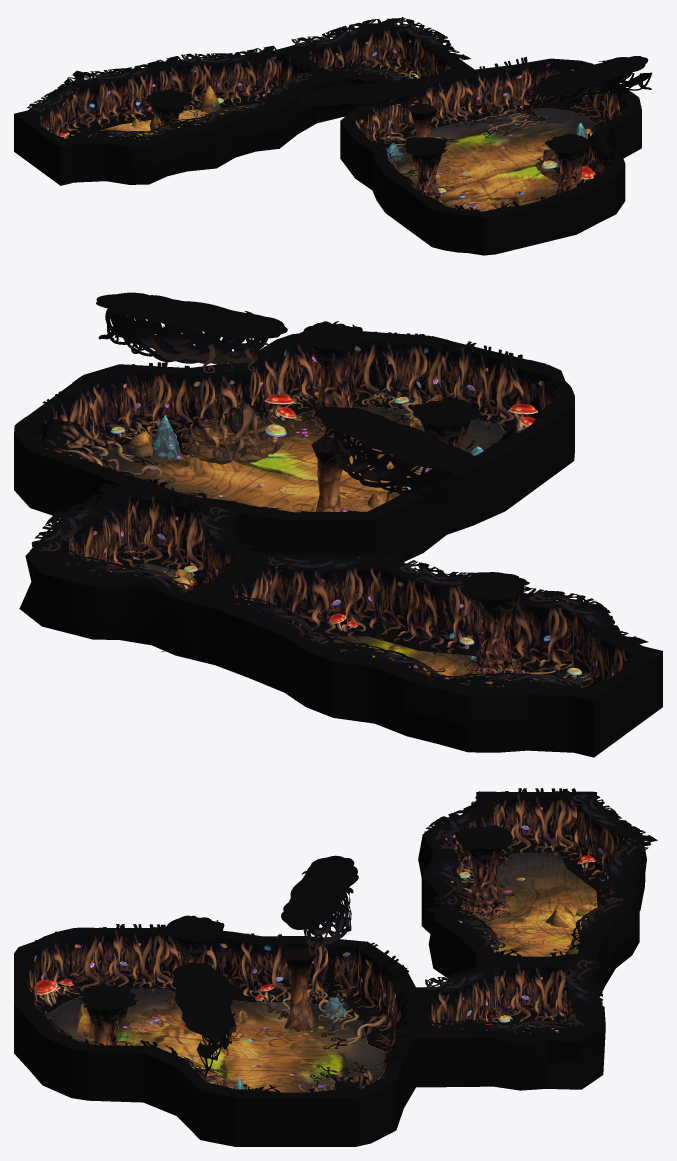
The picture shows the model from 3 angles, top to bottom: view 1: azimuth 30°, elevation 25°; view 2: azimuth 150°, elevation 25°; view 3: azimuth 270°, elevation 25°; orthographic projection. The views are drawn at different scales.
Visible parts, largest first — view 1: Dan1 (×2), Dun_021_Room_003_wall, Dun_021_Room_003_ground, un_021_Door_002 (×7), Dungeon_021_Tsuta_002 (×2), Dungeon_021_Tsuta_001 (×2), Dungeon_021_Object_025, Dungeon_021_Object_021, un_021_Door_002_Object1 (×3), Dungeon_021_Object_010 (×2), Dungeon_021_Object_024, Dan1_shadow (+9 smaller); view 2: Dan1 (×2), Dun_021_Room_003_wall, un_021_Door_002 (×8), Dungeon_021_Object_025, Dungeon_021_Tsuta_002 (×2), Dun_021_Room_003_ground, Dungeon_021_Tsuta_001 (×2), un_021_Door_002_Object1 (×4), Dungeon_021_Object_021, Dungeon_021_Object_011 (×2), Dungeon_021_Object_010 (×2), Dungeon_021_Object_015 (+9 smaller); view 3: Dun_021_Room_003_wall, Dan1 (×2), un_021_Door_002 (×8), Dun_021_Room_003_ground, Dungeon_021_Tsuta_002 (×2), Dungeon_021_Object_025, un_021_Door_002_Object1 (×3), Dan2, Dungeon_021_Object_021, Dungeon_021_Tsuta_001 (×2), Dungeon_021_Object_010 (×2), Dun_011_Room_003_shadow (+6 smaller).
Boxes of the visible parts, x1,y1,x2,y2 form: Dan1 (×2): (14, 25, 474, 185); Dun_021_Room_003_wall: (340, 58, 641, 255); Dun_021_Room_003_ground: (389, 107, 599, 211); un_021_Door_002 (×7): (15, 46, 637, 250); Dungeon_021_Tsuta_002 (×2): (27, 17, 470, 141); Dungeon_021_Tsuta_001 (×2): (36, 24, 460, 141); Dungeon_021_Object_025: (297, 56, 652, 118); Dungeon_021_Object_021: (348, 56, 627, 210); un_021_Door_002_Object1 (×3): (267, 53, 624, 135); Dungeon_021_Object_010 (×2): (145, 89, 592, 163); Dungeon_021_Object_024: (470, 77, 581, 137); Dan1_shadow: (63, 95, 274, 138); Dan1 (×2): (19, 485, 662, 757); Dun_021_Room_003_wall: (14, 331, 574, 563); un_021_Door_002 (×8): (16, 336, 660, 748); Dungeon_021_Object_025: (96, 292, 474, 501); Dungeon_021_Tsuta_002 (×2): (30, 483, 648, 689); Dun_021_Room_003_ground: (95, 406, 507, 512); Dungeon_021_Tsuta_001 (×2): (47, 488, 636, 688); un_021_Door_002_Object1 (×4): (41, 340, 525, 613); Dungeon_021_Object_021: (67, 331, 560, 513); Dungeon_021_Object_011 (×2): (307, 349, 522, 680); Dungeon_021_Object_010 (×2): (299, 321, 530, 614); Dungeon_021_Object_015: (174, 406, 294, 464); Dun_021_Room_003_wall: (14, 928, 415, 1146); Dan1 (×2): (416, 792, 646, 1090); un_021_Door_002 (×8): (14, 791, 594, 1146); Dun_021_Room_003_ground: (44, 988, 386, 1092); Dungeon_021_Tsuta_002 (×2): (424, 791, 657, 1036); Dungeon_021_Object_025: (171, 855, 358, 1077); un_021_Door_002_Object1 (×3): (80, 788, 577, 1025); Dan2: (470, 852, 597, 956); Dungeon_021_Object_021: (31, 927, 409, 1089); Dungeon_021_Tsuta_001 (×2): (433, 795, 636, 1033); Dungeon_021_Object_010 (×2): (78, 824, 512, 1024); Dun_011_Room_003_shadow: (37, 982, 394, 1079).
Size of what is drawn, in the model's own units: 27.25 by 4.55 by 24.21.
